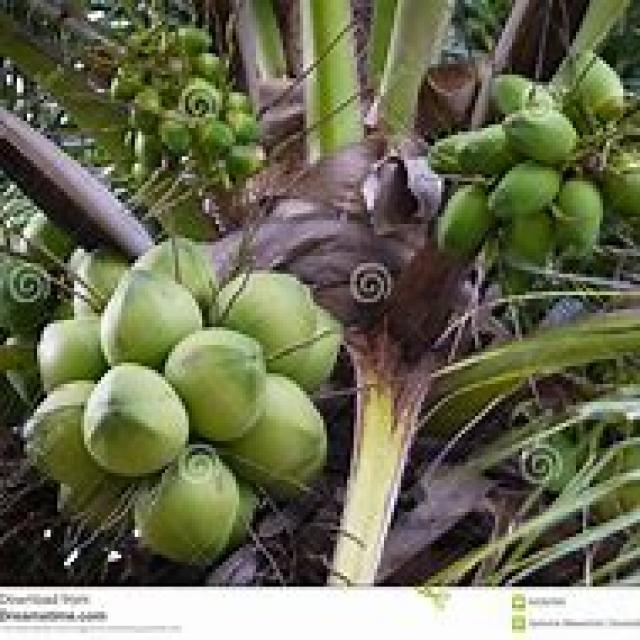coconuts: (28, 254, 328, 563), (435, 72, 617, 280), (133, 71, 263, 189)
